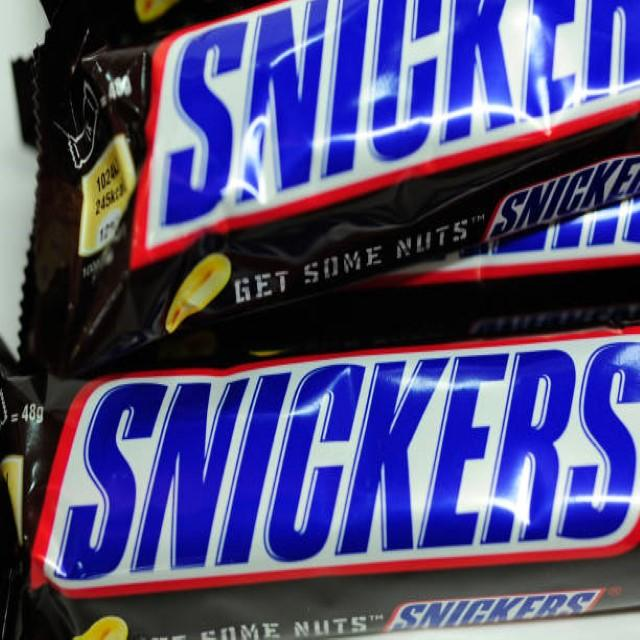snickers_chocolate: (40, 15, 640, 252), (48, 353, 640, 593)
